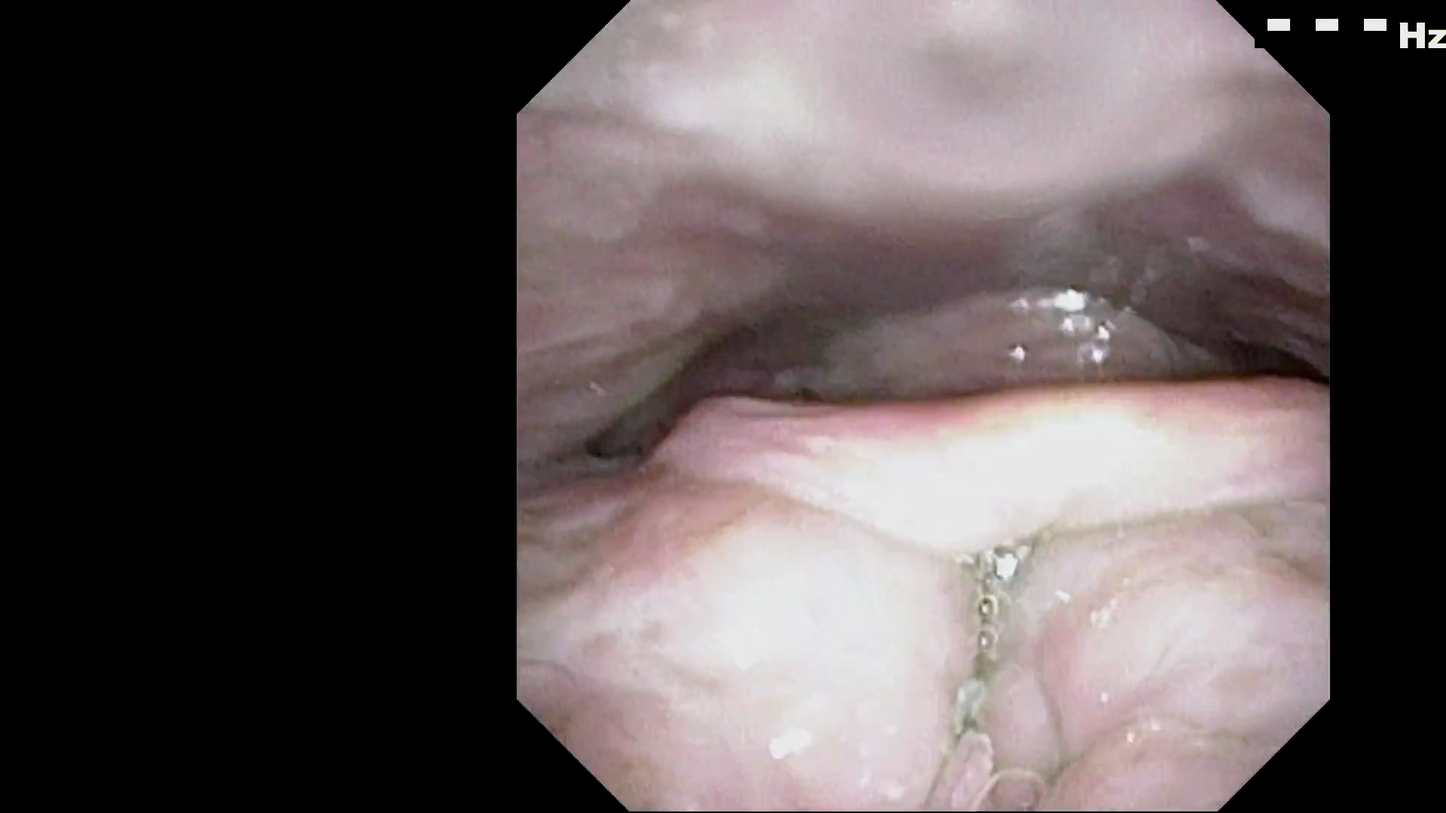epiglottis: (719, 468, 1268, 635)
